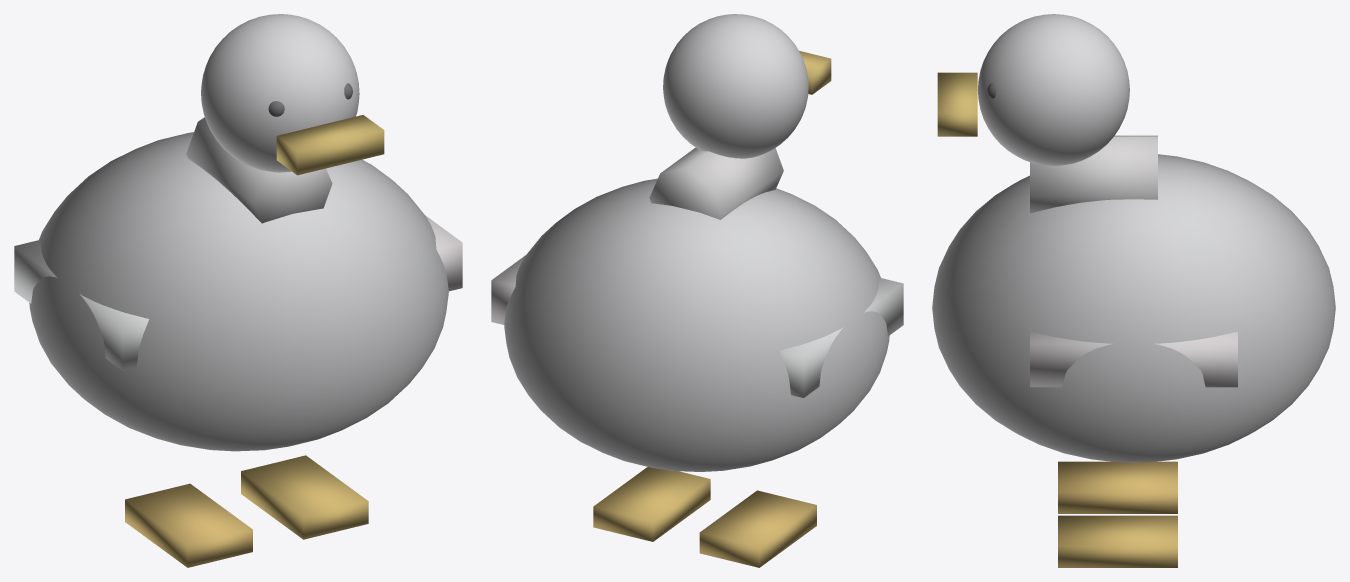
The model's file is lifecycle_duck_adult.glb.
3 views of the same model, side by side, from view 1: azimuth 30°, elevation 25°; view 2: azimuth 150°, elevation 25°; view 3: azimuth 270°, elevation 25° (orthographic). The views are drawn at different scales.
Visible parts, largest first — view 1: body, head, foot-1, foot1, neck, beak, wing-1, wing1; view 2: body, head, neck, foot-1, foot1, wing-1, wing1, beak; view 3: body, head, neck, foot1, foot-1, wing1, beak.
Boxes of the visible parts, box(x1,y1,x2,y2) form: body: box(29, 132, 448, 451); head: box(201, 14, 359, 172); foot-1: box(125, 483, 252, 567); foot1: box(241, 455, 368, 539); neck: box(186, 117, 332, 223); beak: box(276, 115, 384, 175); wing-1: box(14, 239, 149, 370); wing1: box(425, 215, 462, 291); body: box(504, 178, 889, 471); head: box(663, 14, 808, 158); neck: box(649, 147, 783, 219); foot-1: box(699, 490, 816, 567); foot1: box(593, 467, 710, 541); wing-1: box(779, 277, 903, 397); wing1: box(491, 255, 525, 324); beak: box(799, 51, 831, 94); body: box(932, 154, 1335, 462); head: box(977, 14, 1129, 165); neck: box(1030, 135, 1157, 213); foot1: box(1058, 515, 1177, 567); foot-1: box(1058, 461, 1177, 513); wing1: box(1030, 331, 1237, 387); beak: box(937, 72, 977, 136).
Size of the model in its own units: 0.504 by 0.695 by 0.504.
